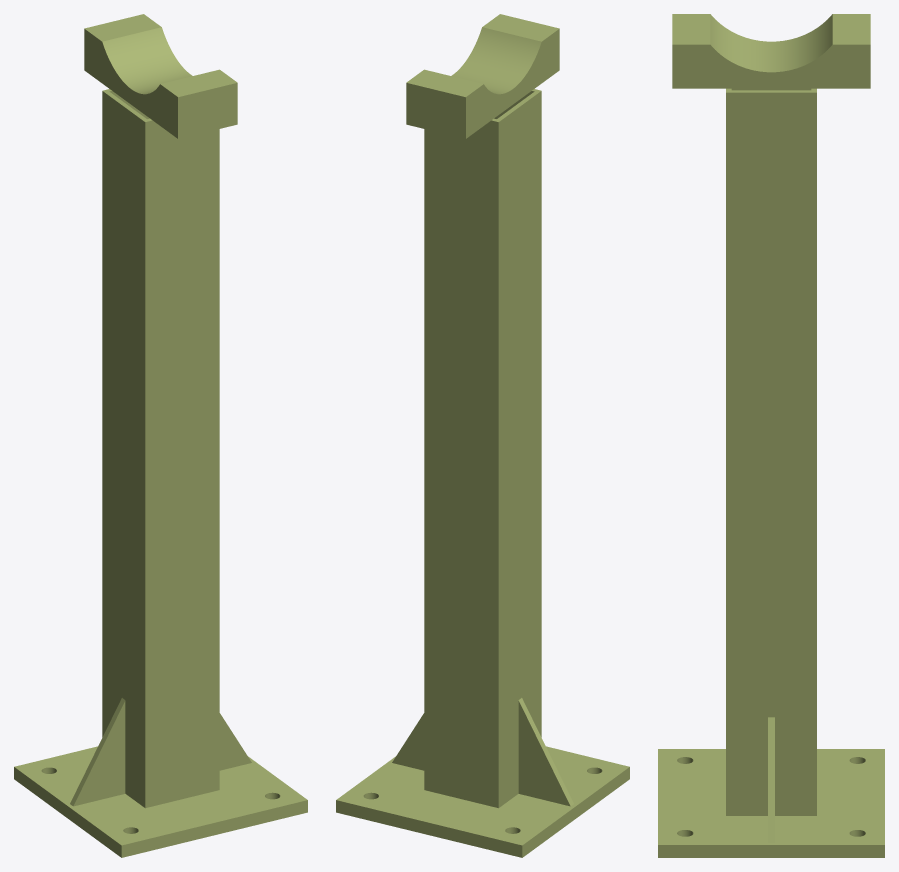
File: step_26.glb
3 views of the same model, side by side, from view 1: azimuth 30°, elevation 25°; view 2: azimuth 150°, elevation 25°; view 3: azimuth 270°, elevation 25° (orthographic). The views are drawn at different scales.
Visible parts, largest first — view 1: part__pipe support SP-101, tall; view 2: part__pipe support SP-101, tall; view 3: part__pipe support SP-101, tall.
Boxes of the visible parts, box(x1,y1,x2,y2) form: part__pipe support SP-101, tall: box(14, 14, 307, 857); part__pipe support SP-101, tall: box(336, 14, 629, 857); part__pipe support SP-101, tall: box(658, 14, 884, 857).
Bounding box in the file's own units: 250 × 950 × 250.
